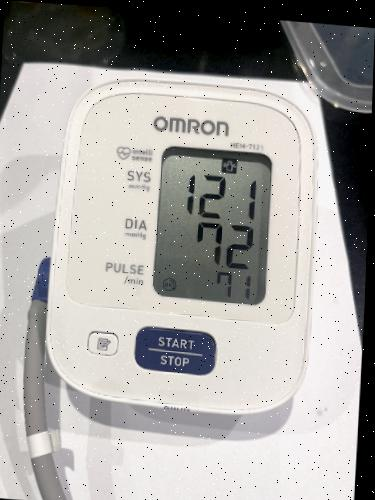bpm: (145, 138, 275, 309)
